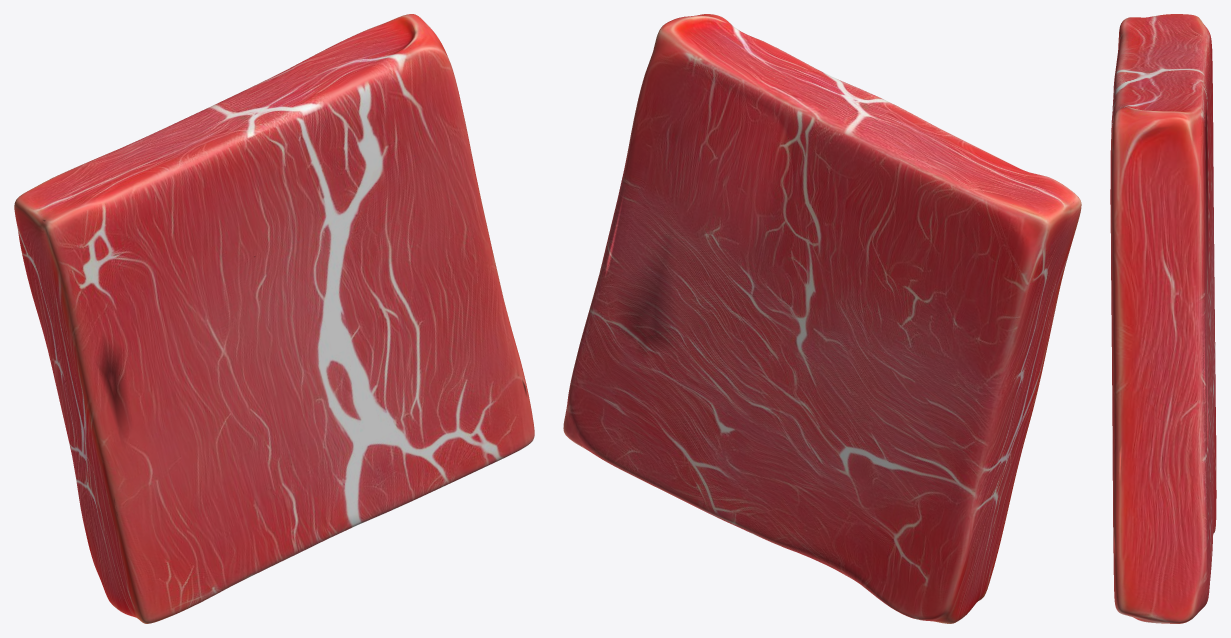
The model's file is pronator-quadratus.glb.
3 views of the same model, side by side, from view 1: azimuth 30°, elevation 25°; view 2: azimuth 150°, elevation 25°; view 3: azimuth 270°, elevation 25° (orthographic). The views are drawn at different scales.
Parts seen in each view (by area): view 1: pronator-quadratus; view 2: pronator-quadratus; view 3: pronator-quadratus.
Boxes of the visible parts, x1=… form: pronator-quadratus: x1=14, y1=14, x2=534, y2=623; pronator-quadratus: x1=563, y1=14, x2=1081, y2=623; pronator-quadratus: x1=1110, y1=14, x2=1216, y2=623.
Size of the model in its own units: 0.9813 by 1 by 0.1738.
Materials: 1 (1 with a texture image).
